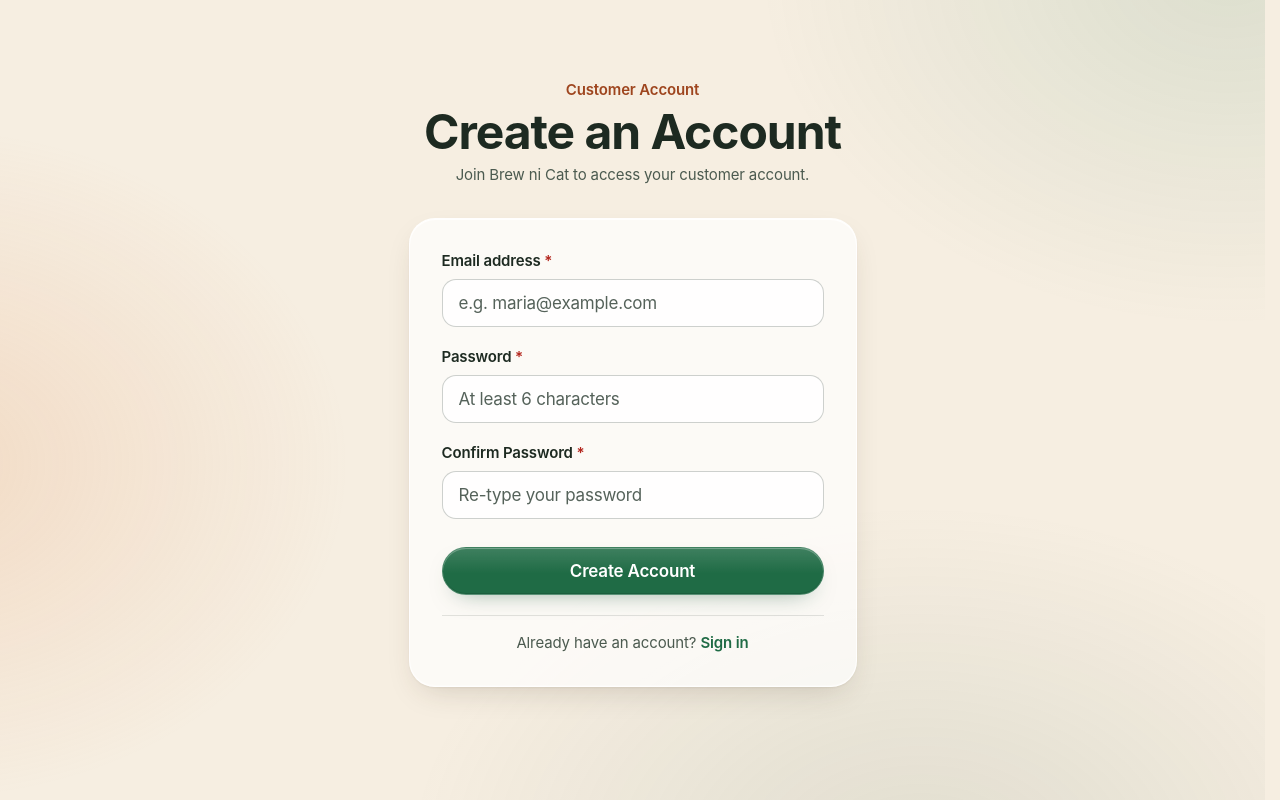
Test case: Account Forms Component Tests › SignUpView (FR-031, FR-035) › TC-P4-162 — shows clear error for a weak password (less than 6 characters)
Type "test@example.com" into the field labelled "Email address *" at [632, 303], box [442, 279, 824, 327]
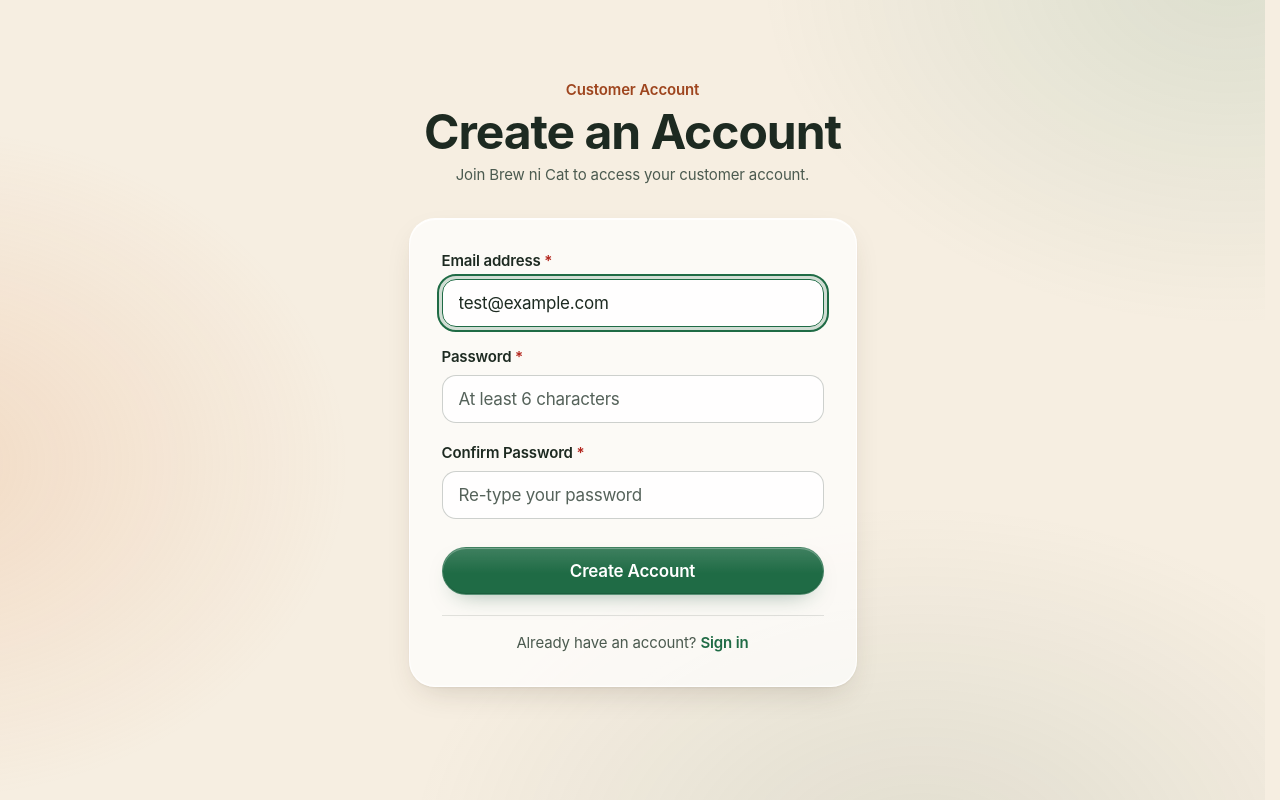
Type "123" into the password field labelled "Password *" at [632, 399], box [442, 375, 824, 423]
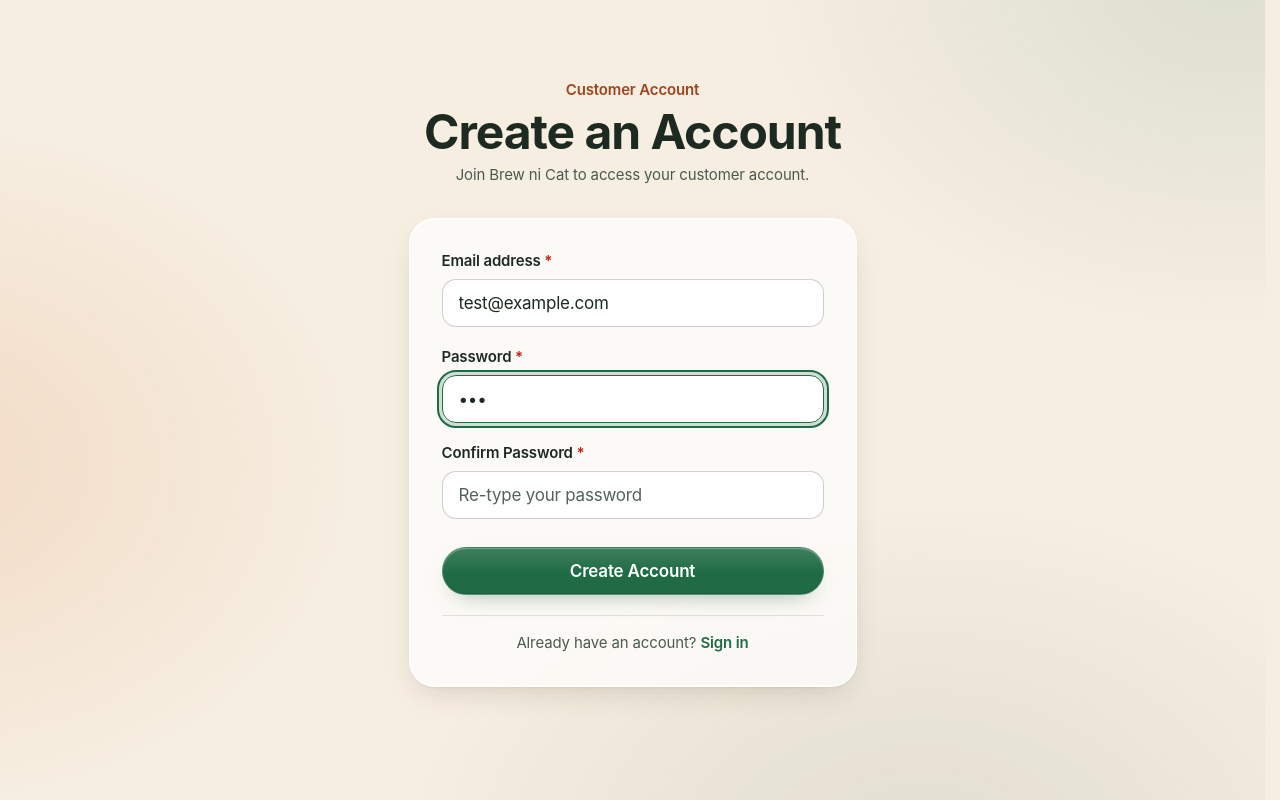
Type "123" into the password field labelled "Confirm Password *" at [632, 495], box [442, 471, 824, 519]
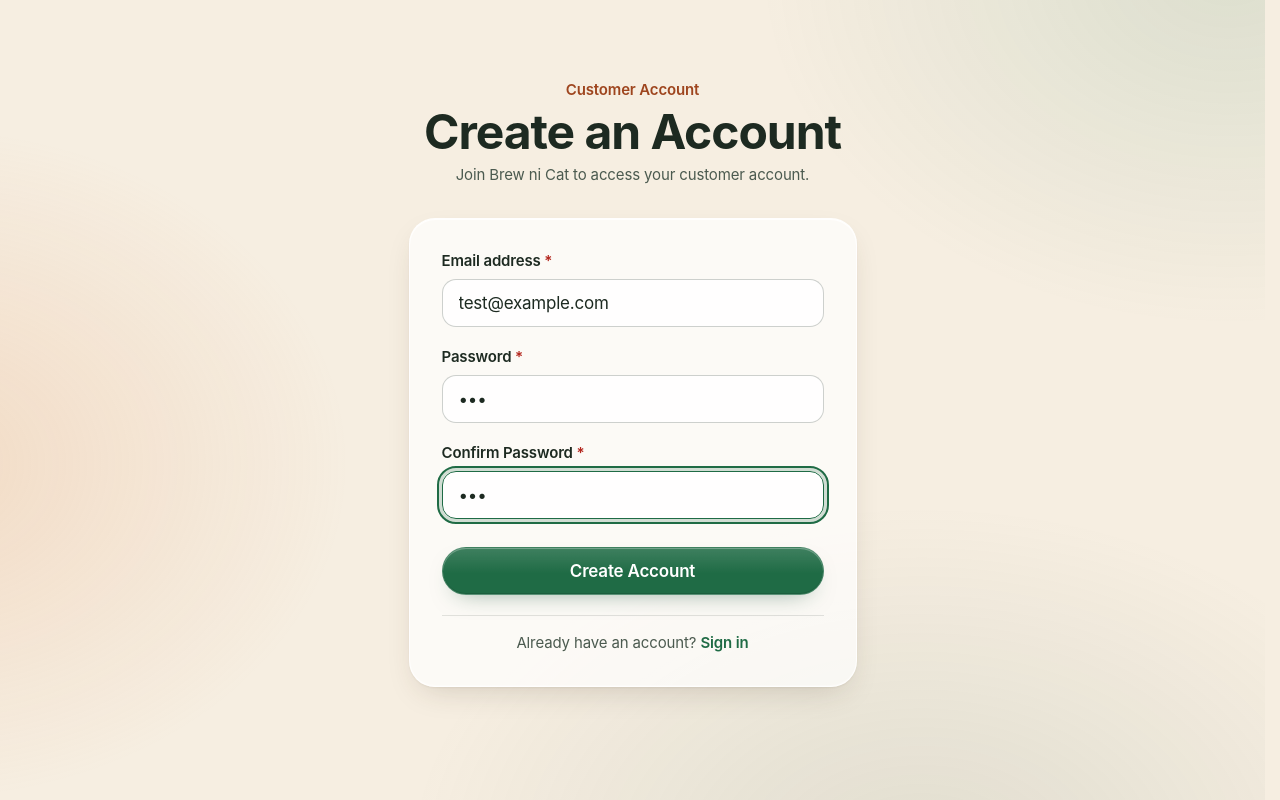
Click the button "Create Account" at [632, 571], box [442, 547, 824, 595]
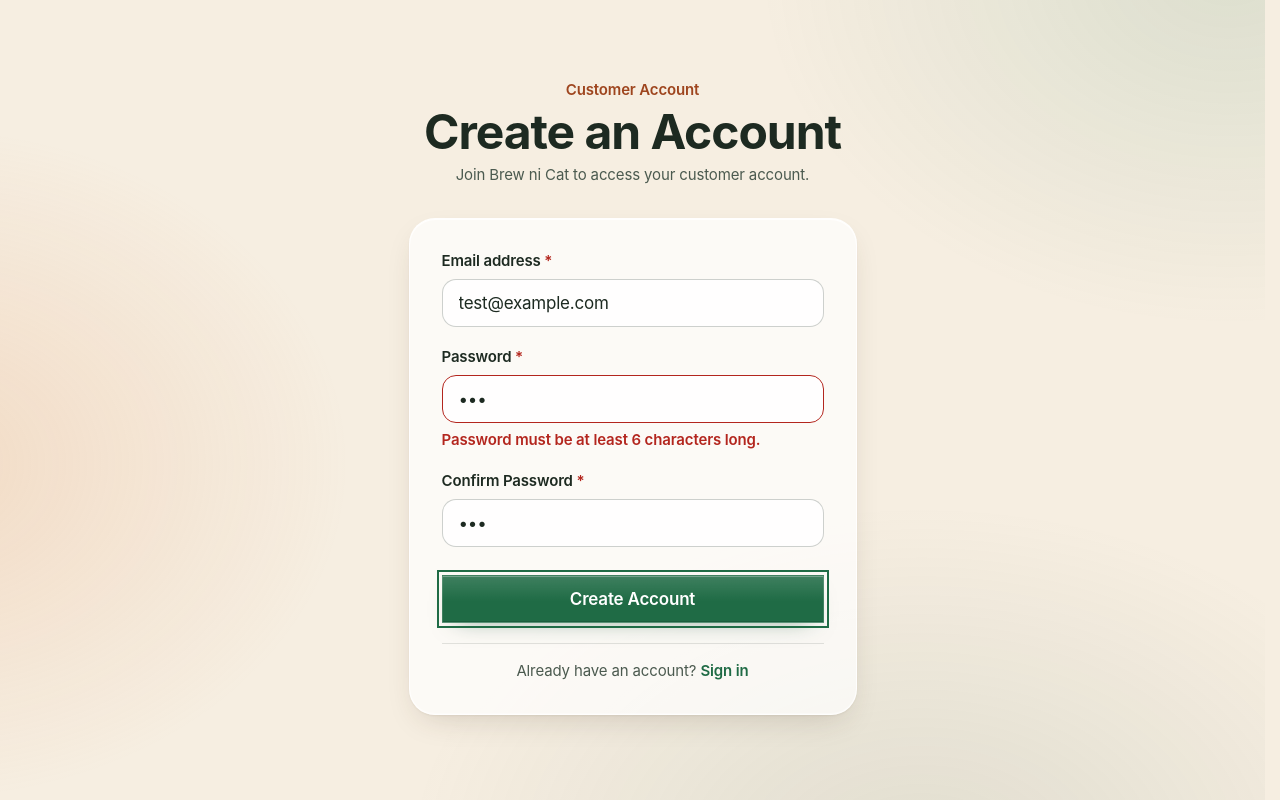
Expected: the text "Password must be at least 6 characters long." is shown, [442, 430, 760, 449]
